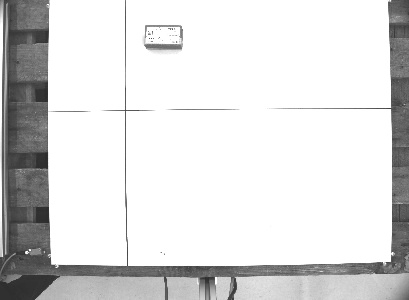b3: (141, 22, 185, 51)
